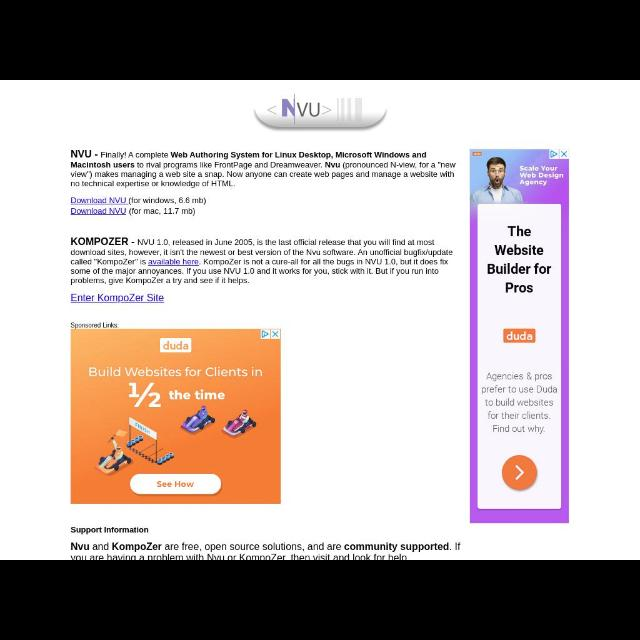iframe: (70, 318, 282, 506), (470, 148, 570, 524)
image: (69, 148, 457, 190), (255, 96, 389, 124)
link: (69, 291, 167, 305), (71, 207, 127, 216), (72, 197, 126, 206), (146, 258, 202, 266)
text: (70, 235, 458, 287), (68, 525, 460, 559), (128, 206, 202, 217), (130, 198, 206, 206)
